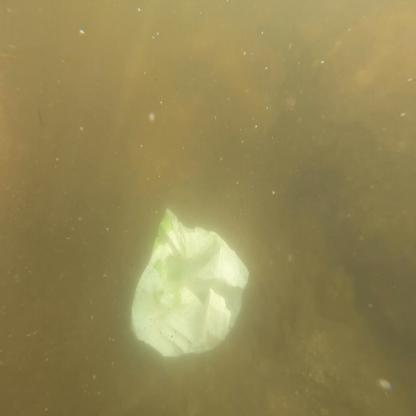Rác: (127, 203, 253, 371)
